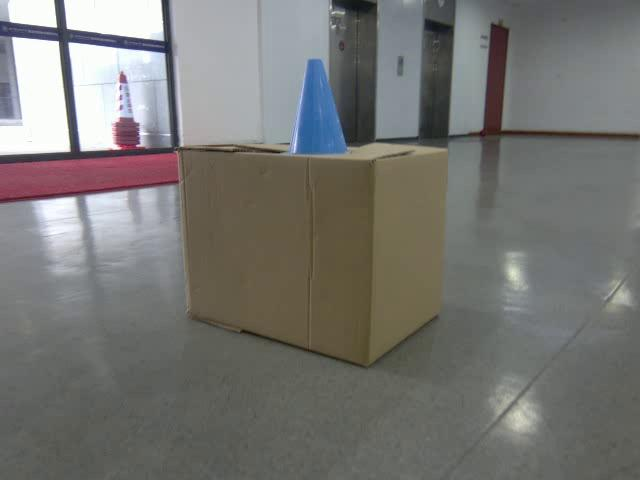blue_barrel: (280, 59, 352, 155)
